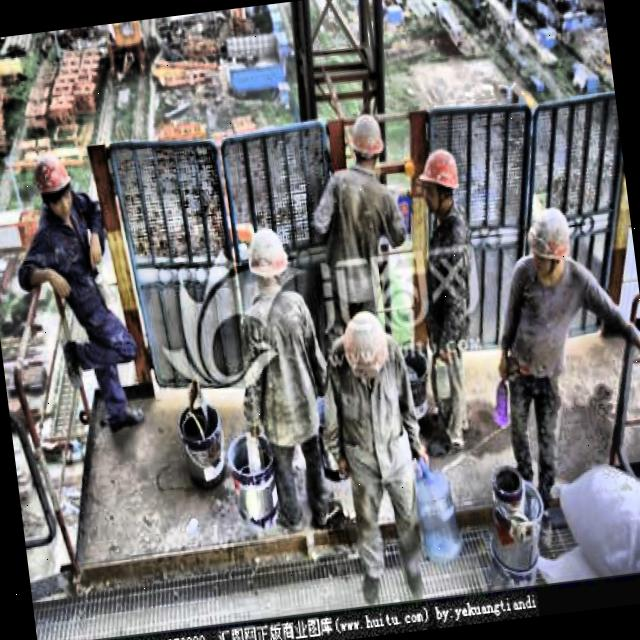helmet: (520, 205, 574, 279), (338, 306, 392, 379), (413, 143, 462, 215), (30, 150, 75, 222), (244, 227, 290, 288), (346, 112, 388, 174)
